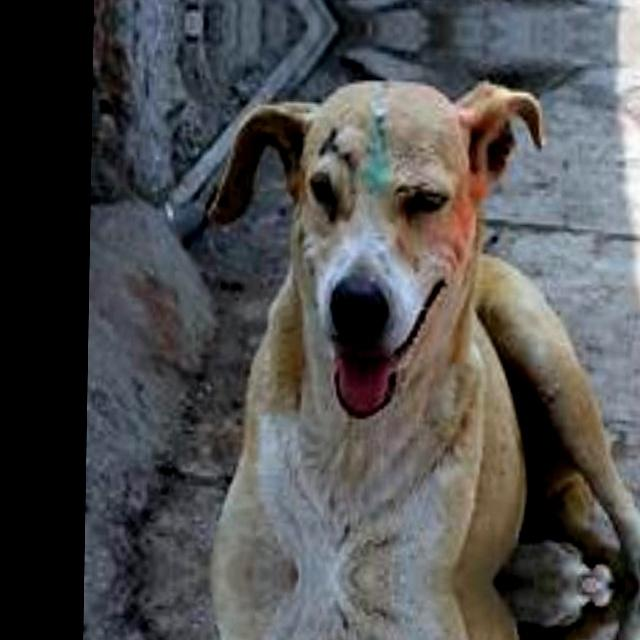dog: (183, 78, 610, 586), (182, 572, 602, 640)
